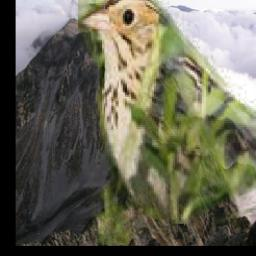Sparrow: (78, 0, 256, 246)
